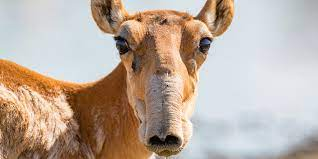saiga: (1, 1, 236, 159)
